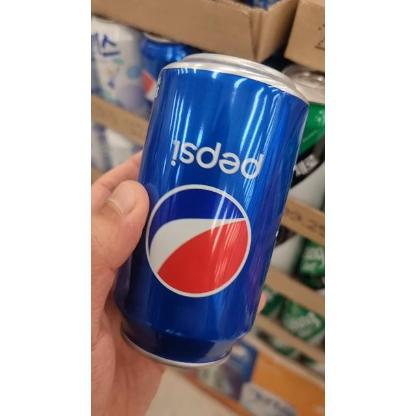Can: (118, 53, 310, 369)
